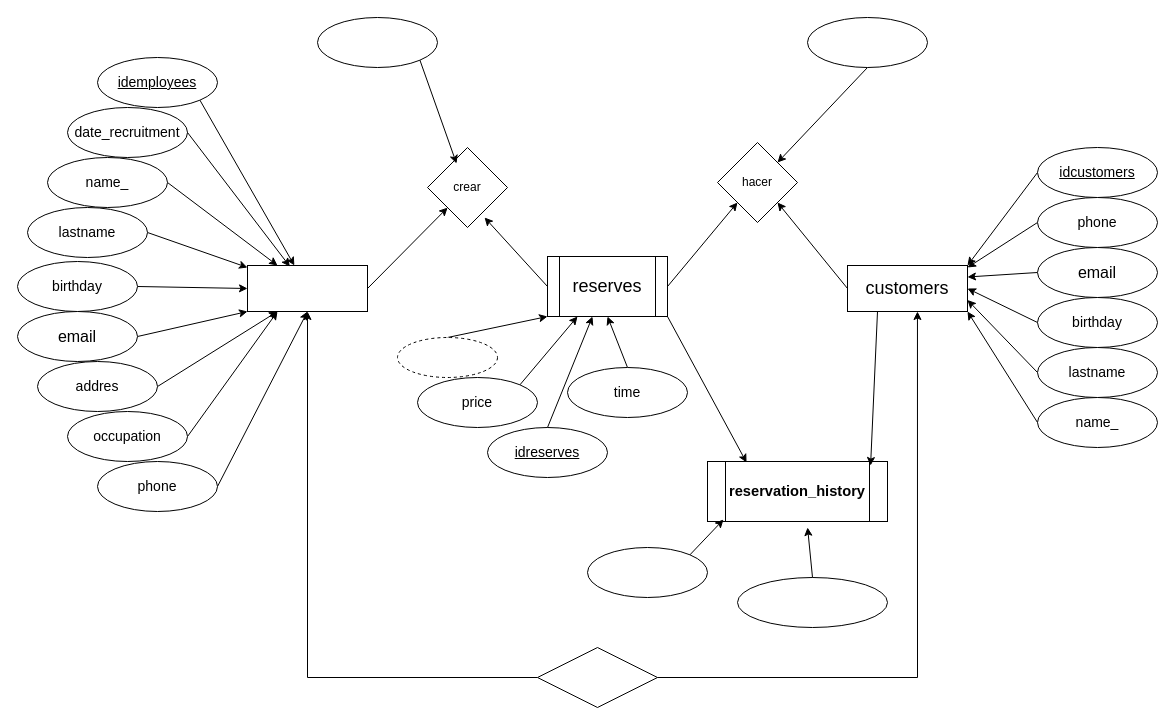
The diagram is 1175 pixels wide and 725 high, and some of its shapes have lost their labels. Here are the shapes that lost their labels. From the top down, the centre of each, then its label:
At [377,42]: "createAt".
At [867,42]: "date_reserves".
At [307,288]: "employees".
At [447,357]: "state".
At [647,572]: "comment".
At [812,602]: "idreservation_history".
At [597,677]: "payment".
